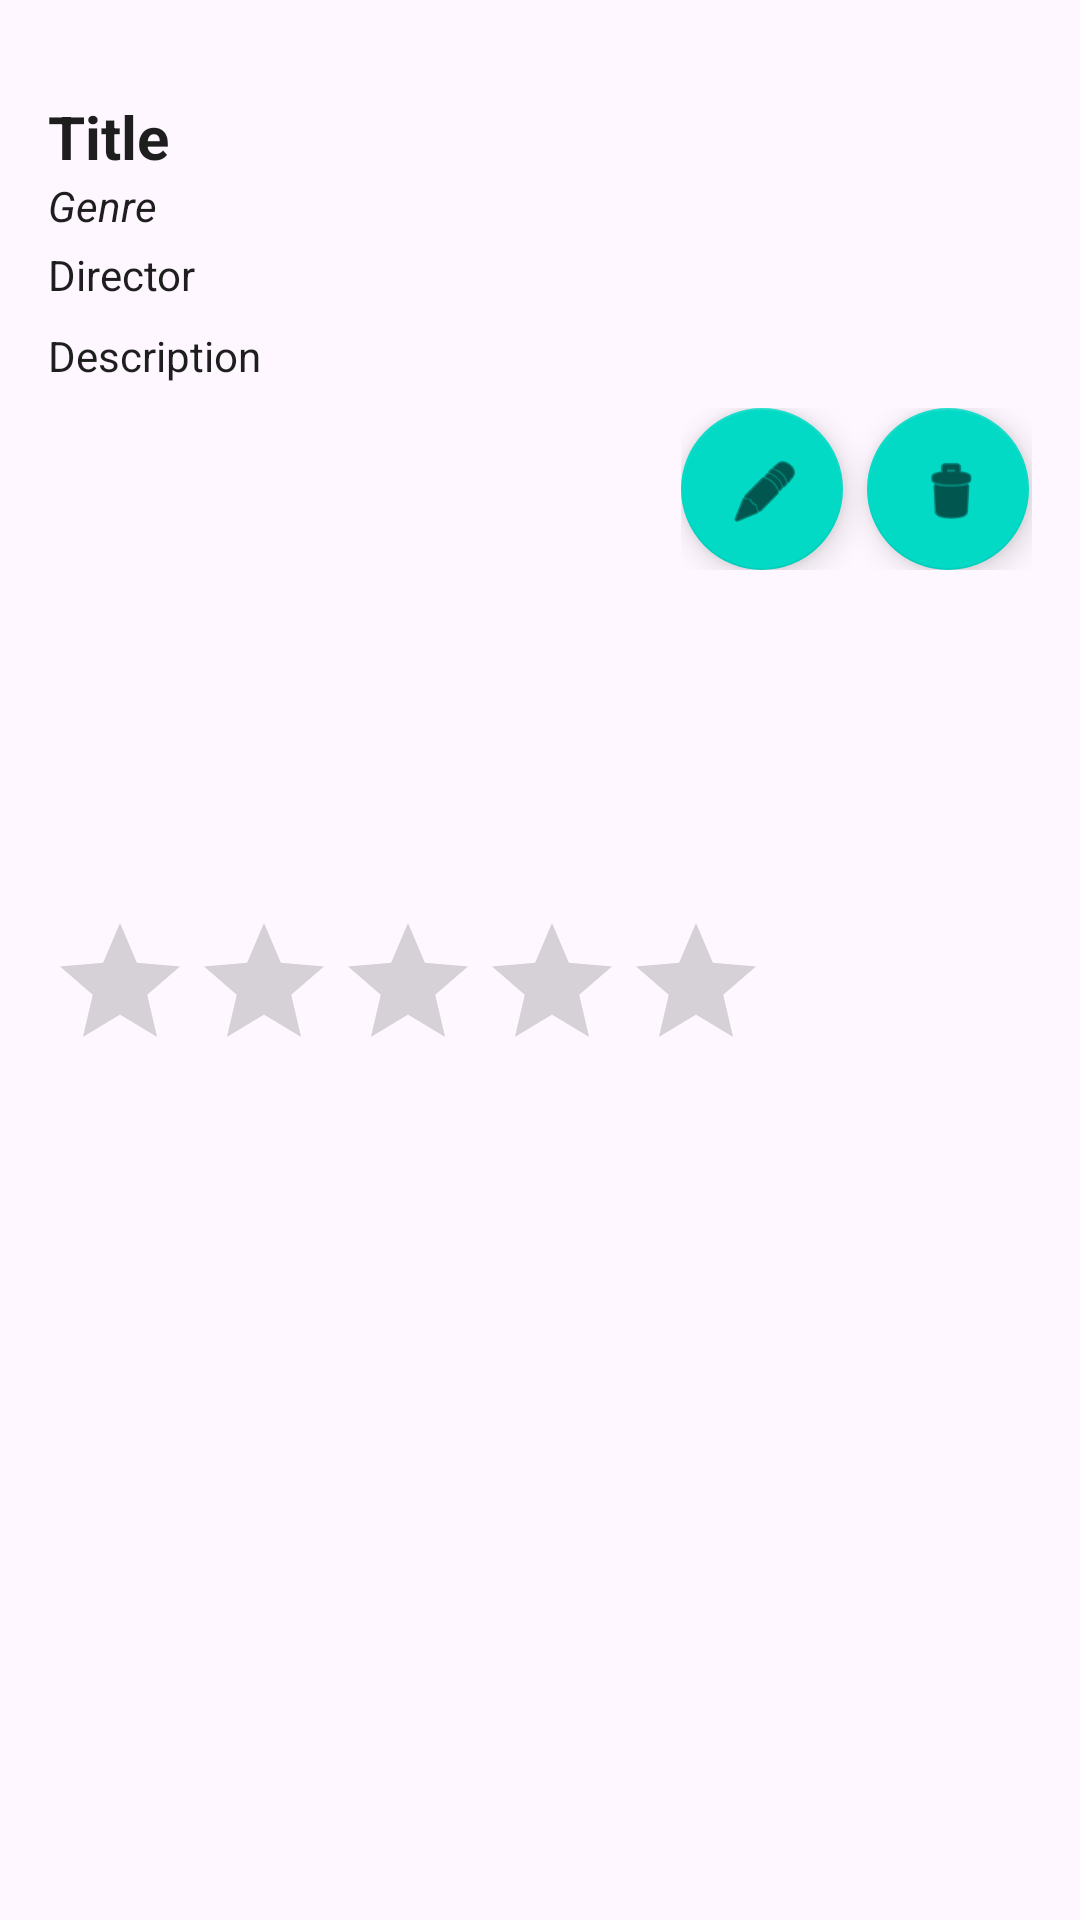

Icons on this 1080w x 1920h Android screen, each with the point to tap as (x,y):
delete button: (948,489)
edit button: (762,489)
